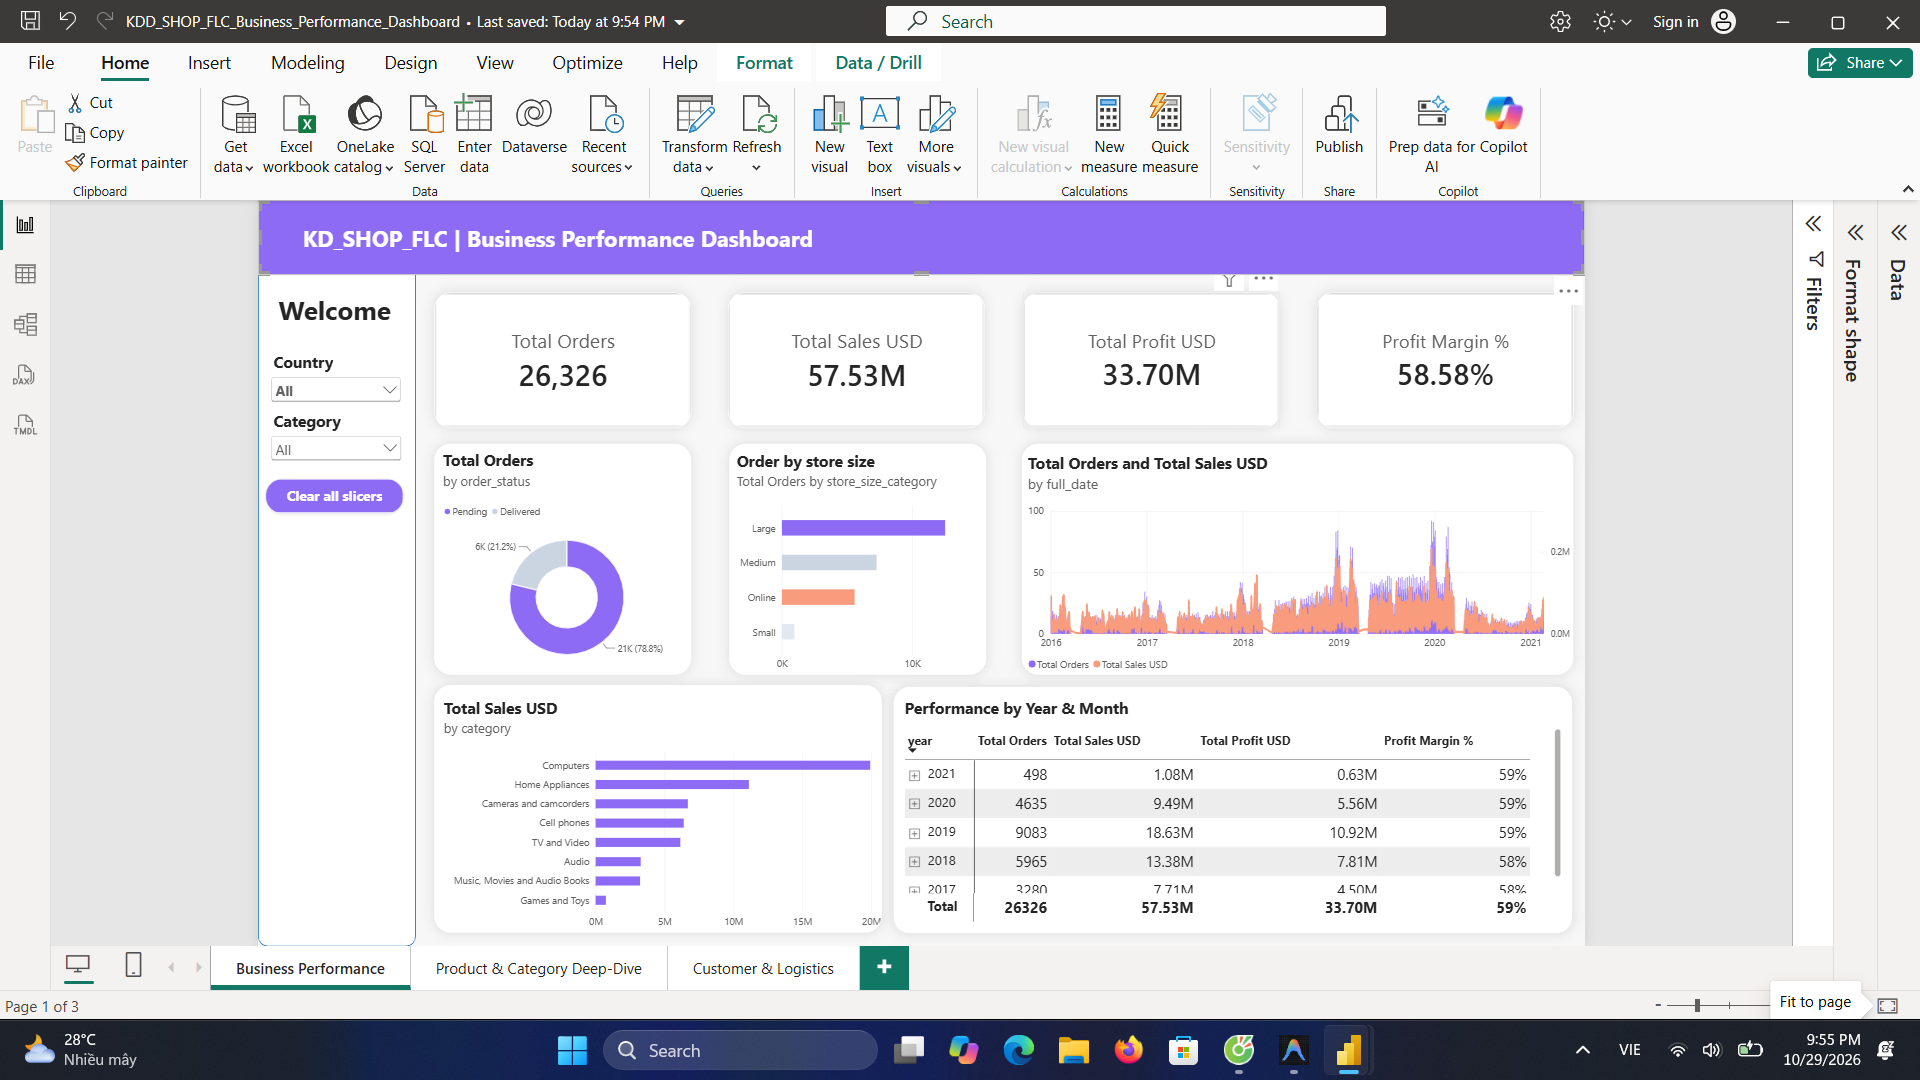

Layout of this report page (visuals, bound fields, positions):
{"tool":"powerbi","page":{"name":"Business Performance","canvas":[1920,1080],"ordinal":0},"visuals":[{"type":"shape","box":[0,0,228.5,1080.6],"z":0},{"type":"shape","box":[0,0,1920.4,109.1],"z":1000},{"type":"cardVisual","fields":{"Data":["fact_sales.Total Orders"]},"box":[256,134,372,196],"z":2000},{"type":"cardVisual","fields":{"Data":["fact_sales.Total Sales USD"]},"box":[681.3,134,372,196],"z":3000},{"type":"cardVisual","fields":{"Data":["fact_sales.Total Profit USD"]},"box":[1106.7,134,372,196],"z":4000},{"type":"cardVisual","fields":{"Data":["fact_sales.Profit Margin %"]},"box":[1532,134,372,196],"z":5000},{"type":"donutChart","fields":{"Category":["fact_sales.order_status"],"Y":["fact_sales.Total Orders"]},"box":[256,352,372,334],"z":6000},{"type":"clusteredBarChart","title":"Order by store size","fields":{"Category":["dim_store.store_size_category"],"Y":["fact_sales.Total Orders"]},"box":[682,352,372,334],"z":7000},{"type":"lineClusteredColumnComboChart","fields":{"Category":["dim_date.full_date"],"Y":["fact_sales.Total Orders"],"Y2":["fact_sales.Total Sales USD"]},"box":[1106,352,798,334],"z":8000},{"type":"clusteredBarChart","fields":{"Category":["dim_product.category"],"Y":["fact_sales.Total Sales USD"]},"box":[256,702,648,358],"z":9000},{"type":"pivotTable","title":"Performance by Year & Month","fields":{"Rows":["dim_date.year","dim_date.month"],"Values":["fact_sales.Total Orders","fact_sales.Total Sales USD","fact_sales.Total Profit USD","fact_sales.Profit Margin %"]},"box":[920,704,984,358],"z":10000},{"type":"textbox","box":[14.3,134.6,214.1,65.2],"z":11000},{"type":"slicer","fields":{"Values":["dim_product.category"]},"box":[14.5,304,197.7,99.9],"z":12000},{"type":"slicer","fields":{"Values":["dim_store.country"]},"box":[14.5,219,197.3,97.7],"z":13000},{"type":"slicer","fields":{"Values":["dim_date.full_date"]},"box":[1531,28.5,371,81.5],"z":14000},{"type":"actionButton","box":[10.9,403.6,200,50],"z":15000}]}

Visuals, with their boxes on the page's 1920x1080 design canvas (x1, y1, x2, y2). These are canvas units, not pixel positions in the 1920x1080 screenshot, which may show the page scaled, cropped or inside an application window:
shape: [0,0,228,1081]
shape: [0,0,1920,109]
cardVisual - fact_sales.Total Orders: [256,134,628,330]
cardVisual - fact_sales.Total Sales USD: [681,134,1053,330]
cardVisual - fact_sales.Total Profit USD: [1107,134,1479,330]
cardVisual - fact_sales.Profit Margin %: [1532,134,1904,330]
donutChart - fact_sales.order_status x fact_sales.Total Orders: [256,352,628,686]
"Order by store size" clusteredBarChart: [682,352,1054,686]
lineClusteredColumnComboChart - dim_date.full_date x fact_sales.Total Orders: [1106,352,1904,686]
clusteredBarChart - dim_product.category x fact_sales.Total Sales USD: [256,702,904,1060]
"Performance by Year & Month" pivotTable: [920,704,1904,1062]
textbox: [14,135,228,200]
slicer - dim_product.category: [14,304,212,404]
slicer - dim_store.country: [14,219,212,317]
slicer - dim_date.full_date: [1531,28,1902,110]
actionButton: [11,404,211,454]
